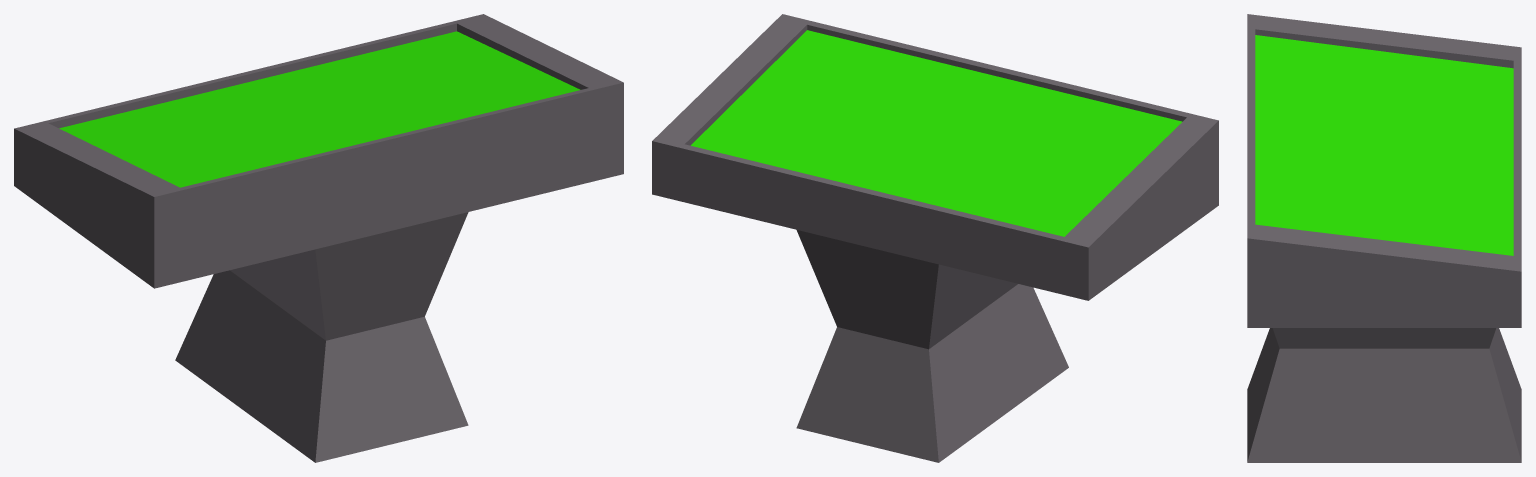
Rendered from Console.glb.
3 renders of one model, left to right at view 1: azimuth 30°, elevation 25°; view 2: azimuth 150°, elevation 25°; view 3: azimuth 270°, elevation 25°, orthographic. The views are drawn at different scales.
Visible parts, largest first — view 1: Cube; view 2: Cube; view 3: Cube.
Part boxes in pixels (x1=…): Cube: x1=14, y1=14, x2=623, y2=462; Cube: x1=652, y1=14, x2=1218, y2=462; Cube: x1=1247, y1=14, x2=1521, y2=462.
Bounding box in the file's own units: 1.93 × 1.2 × 1.
